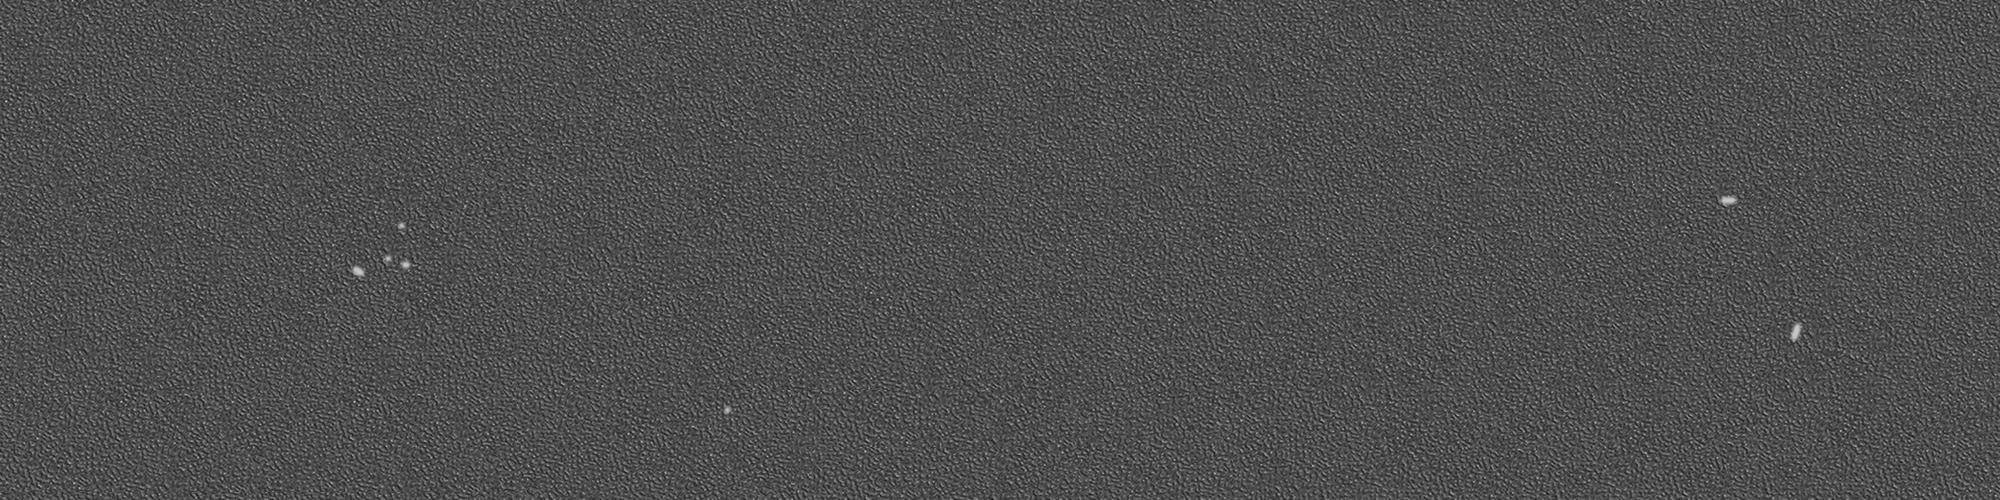Particles: (1784, 319, 1807, 344), (1717, 189, 1739, 210), (347, 263, 364, 281), (395, 218, 412, 236), (395, 256, 415, 270), (719, 404, 737, 417), (384, 250, 394, 265)
